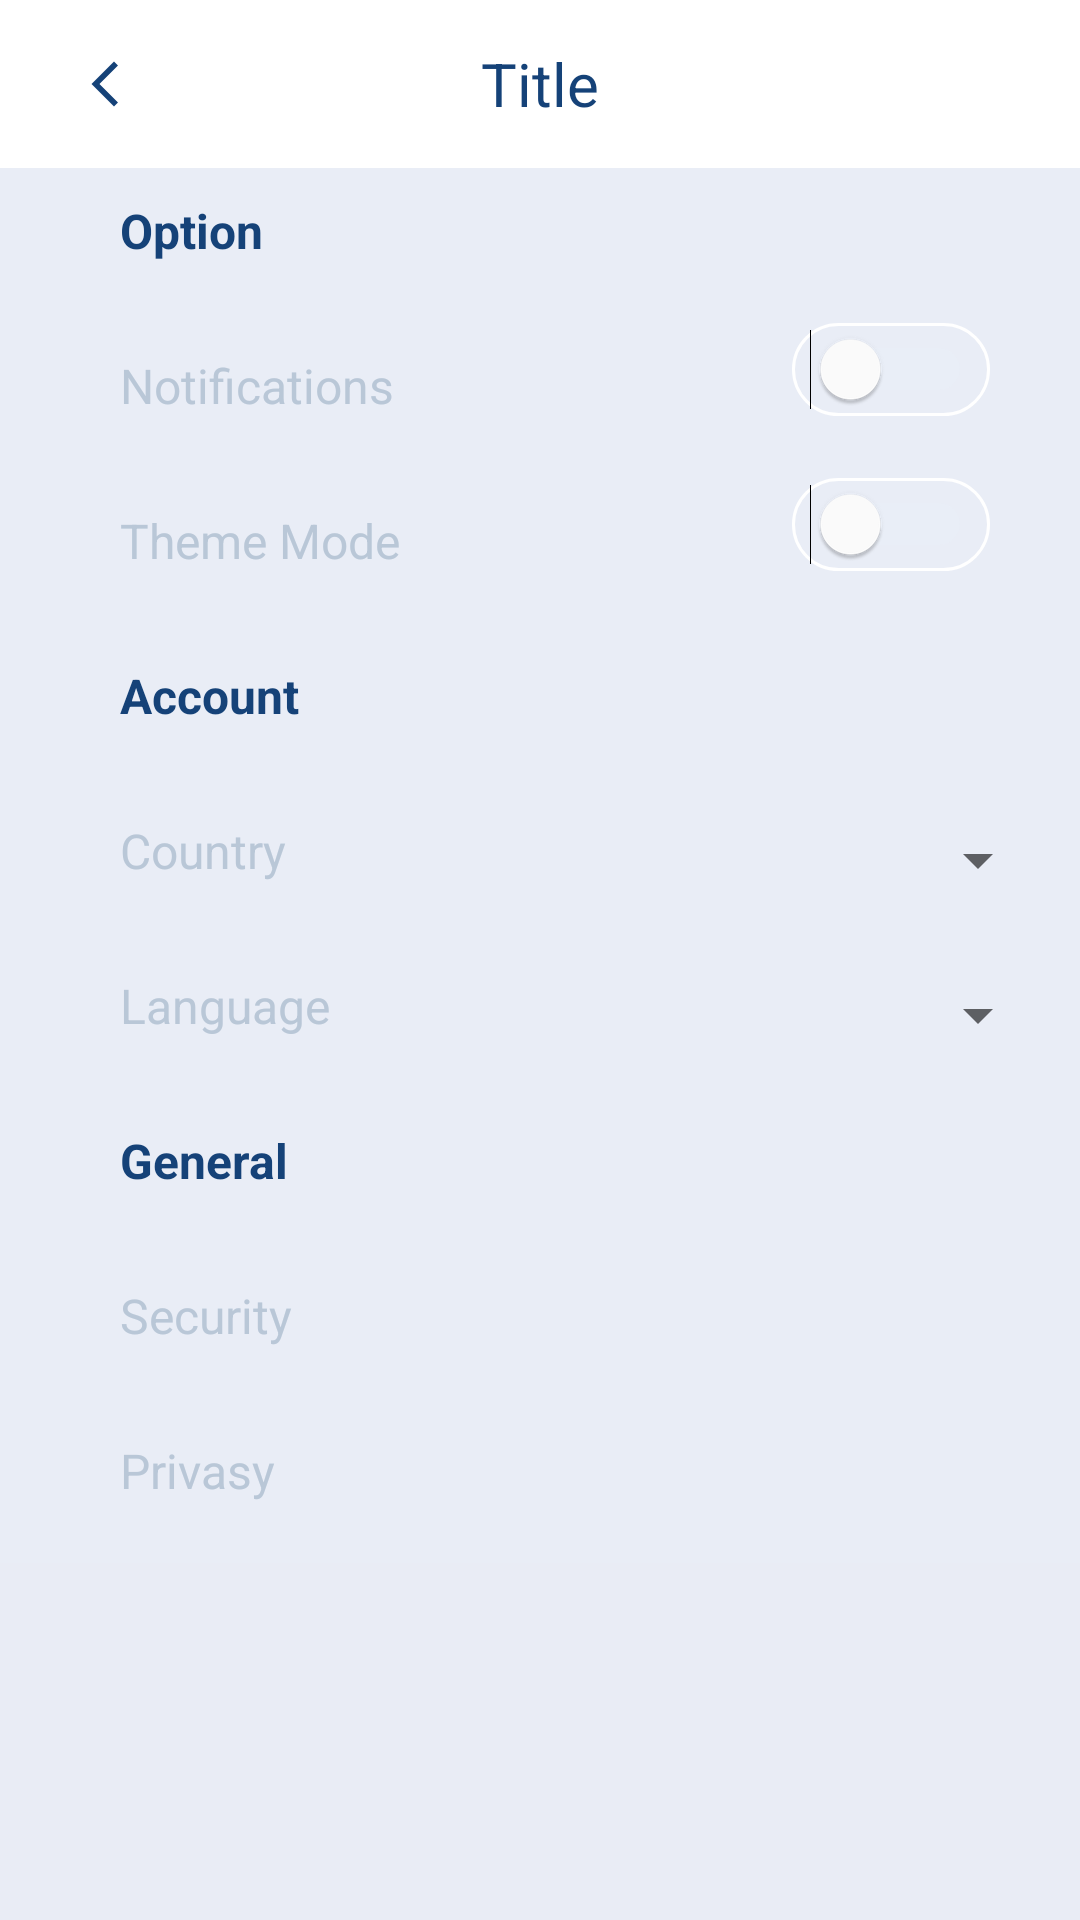

Screen size 1080px×1920px. Icon name, then its center in pixels as [x,y]:
Back Button: [104,84]
